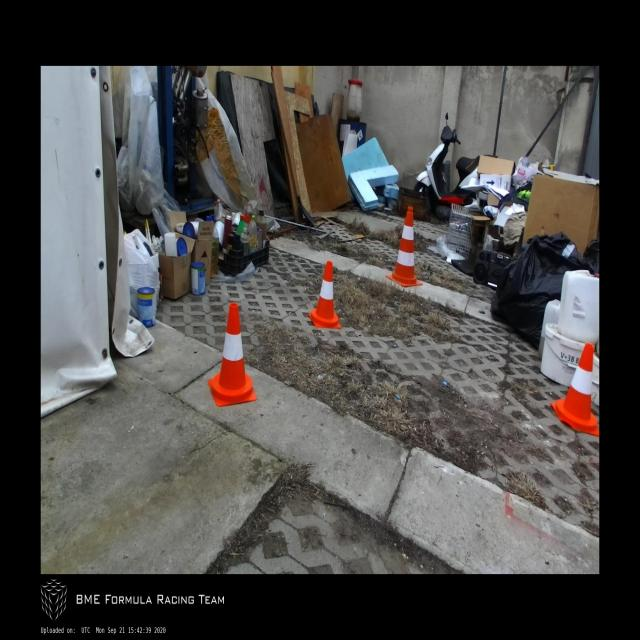large_orange_cone: (386, 207, 422, 286)
orange_cone: (208, 304, 257, 406), (550, 343, 599, 436), (309, 262, 341, 327)
